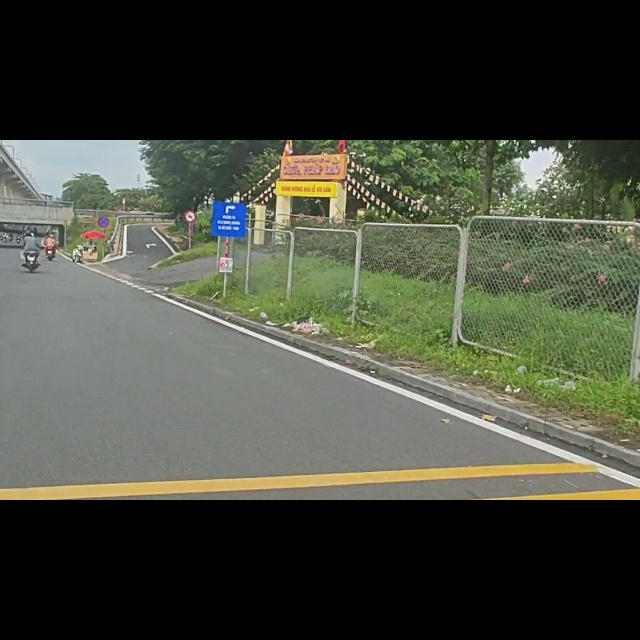bien_chi_dan: (97, 135, 110, 158), (184, 124, 197, 145)
